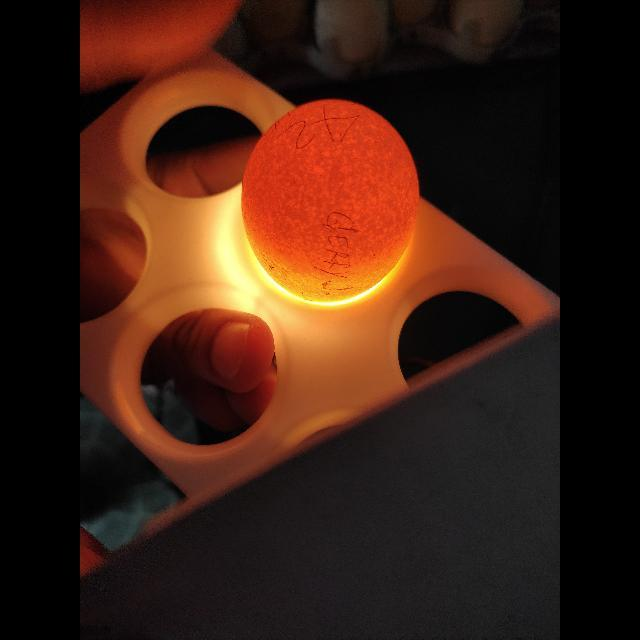Infertile: (234, 91, 426, 292)
